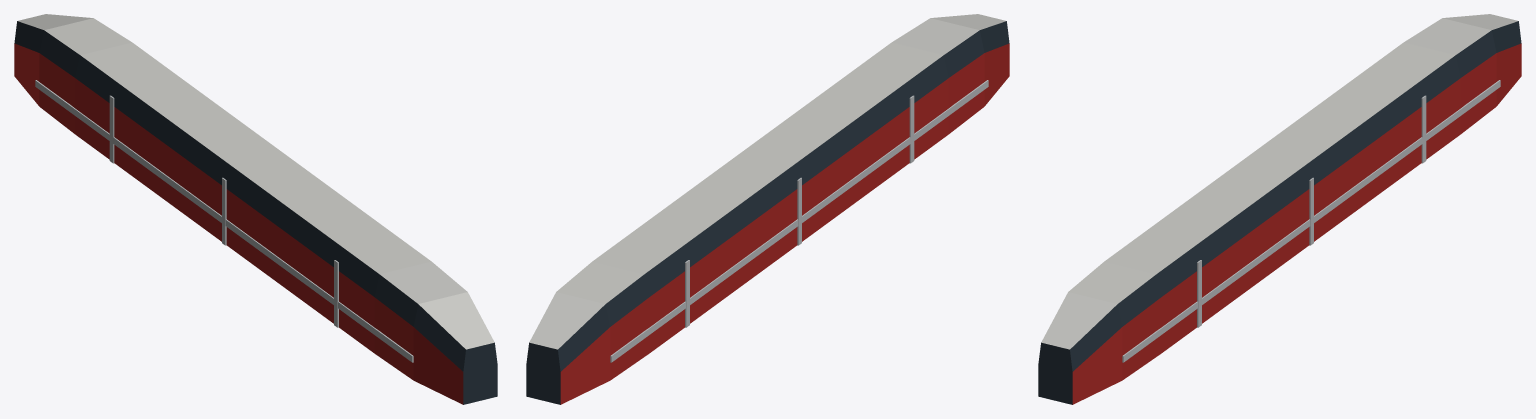
File: seattle_monorail_train.glb
3 renders of one model, left to right at view 1: azimuth 30°, elevation 25°; view 2: azimuth 150°, elevation 25°; view 3: azimuth 330°, elevation 25°, orthographic.
Visible parts, largest first — view 1: seattle_monorail_train; view 2: seattle_monorail_train; view 3: seattle_monorail_train.
Part boxes in pixels (bbox=[...]): seattle_monorail_train: bbox=[14, 14, 497, 404]; seattle_monorail_train: bbox=[526, 14, 1009, 404]; seattle_monorail_train: bbox=[1038, 14, 1521, 404].
Size of the model in its own units: 3.12 by 3.8 by 37.5.
Materials: 1 (1 with a texture image).
